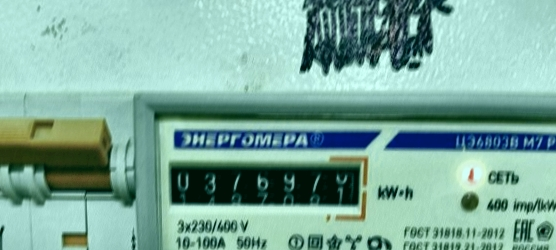0: (172, 169, 186, 191)
1: (330, 185, 343, 205)
3: (199, 171, 214, 194)
6: (251, 167, 266, 190)
7: (224, 168, 239, 191), (305, 170, 319, 193)
9: (277, 169, 292, 192)
screen: (156, 150, 368, 225)
